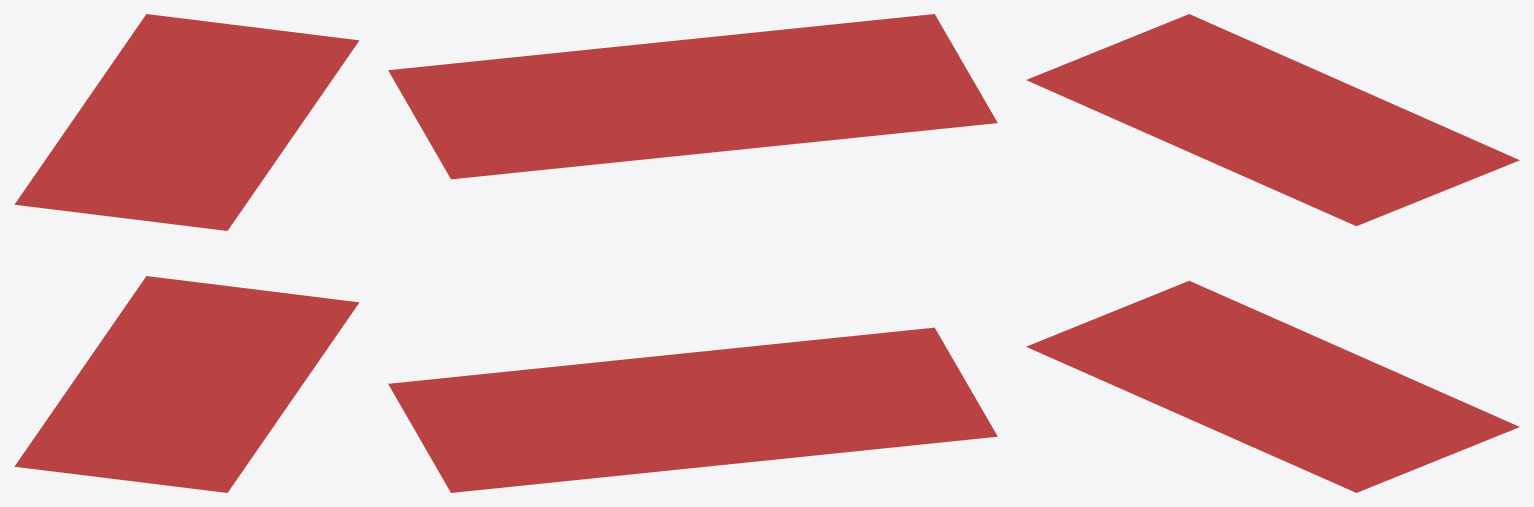
3 renders of one model, left to right at view 1: azimuth 30°, elevation 25°; view 2: azimuth 150°, elevation 25°; view 3: azimuth 270°, elevation 25°, orthographic. The views are drawn at different scales.
Size of the model in its own units: 8.17 by 8.04 by 4.79.
